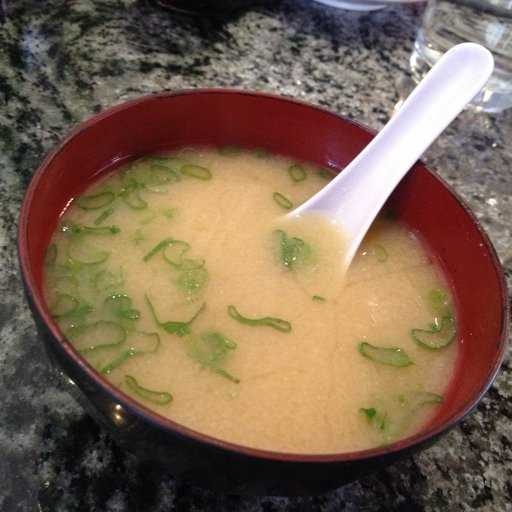soup: (55, 127, 462, 418)
